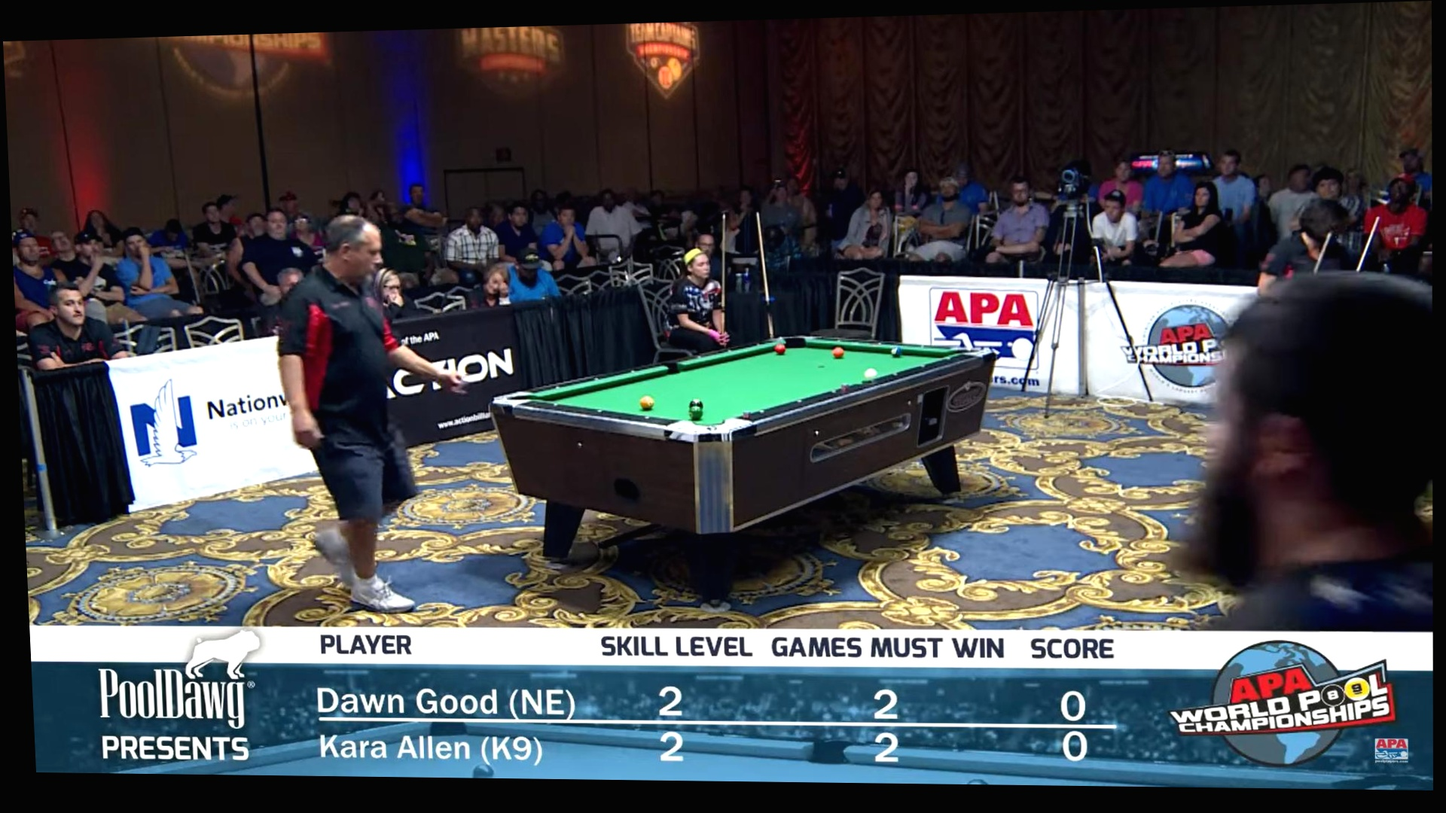Black: (689, 399, 703, 409)
Cue: (864, 368, 878, 380)
Solid: (552, 384, 563, 392), (694, 353, 705, 361), (753, 341, 764, 349), (874, 340, 885, 348), (794, 397, 805, 405), (756, 408, 767, 416), (594, 407, 605, 415), (834, 337, 844, 345), (918, 362, 928, 370), (642, 414, 652, 422), (591, 376, 602, 383), (724, 348, 735, 355), (917, 343, 928, 350), (890, 371, 901, 378), (550, 401, 561, 408), (628, 368, 638, 375), (943, 355, 953, 362), (829, 388, 839, 395)
Striped: (639, 395, 654, 410), (689, 405, 703, 420), (833, 346, 845, 358), (891, 346, 902, 358), (775, 343, 786, 355)
